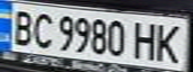0: (106, 17, 130, 57)
8: (87, 16, 109, 56)
9: (51, 11, 75, 52), (72, 15, 93, 54)
B: (6, 7, 39, 47)
C: (27, 10, 57, 49)
H: (130, 19, 163, 61)
K: (151, 20, 187, 64)
